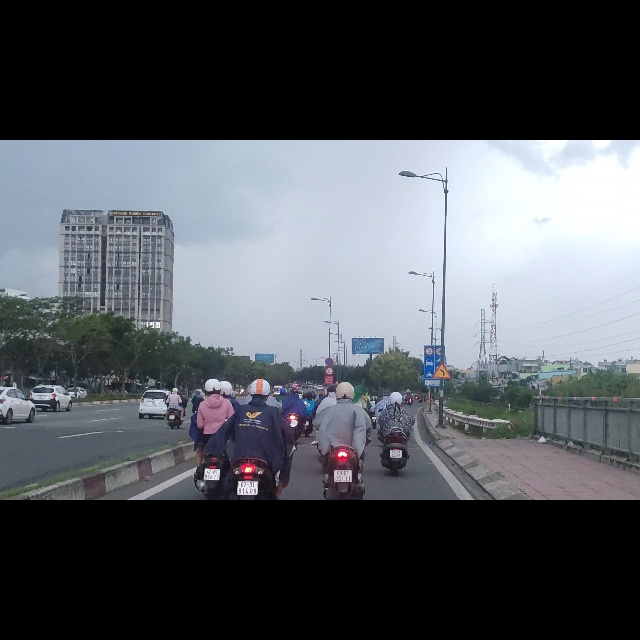bien_chi_dan: (433, 394, 452, 426), (324, 402, 334, 418), (324, 385, 333, 402), (425, 366, 433, 384)
